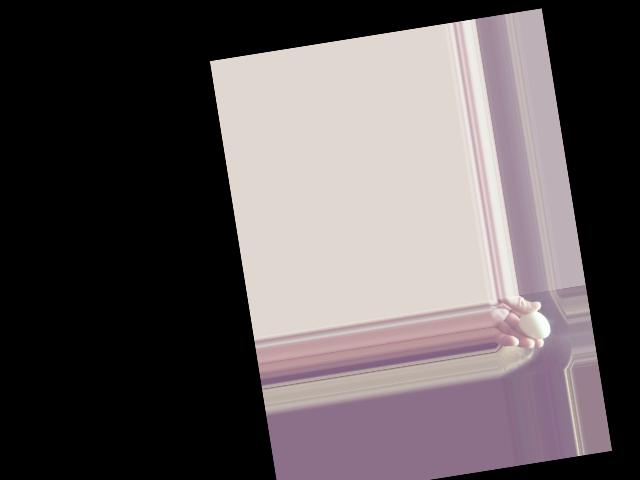egg: (517, 309, 551, 341)
